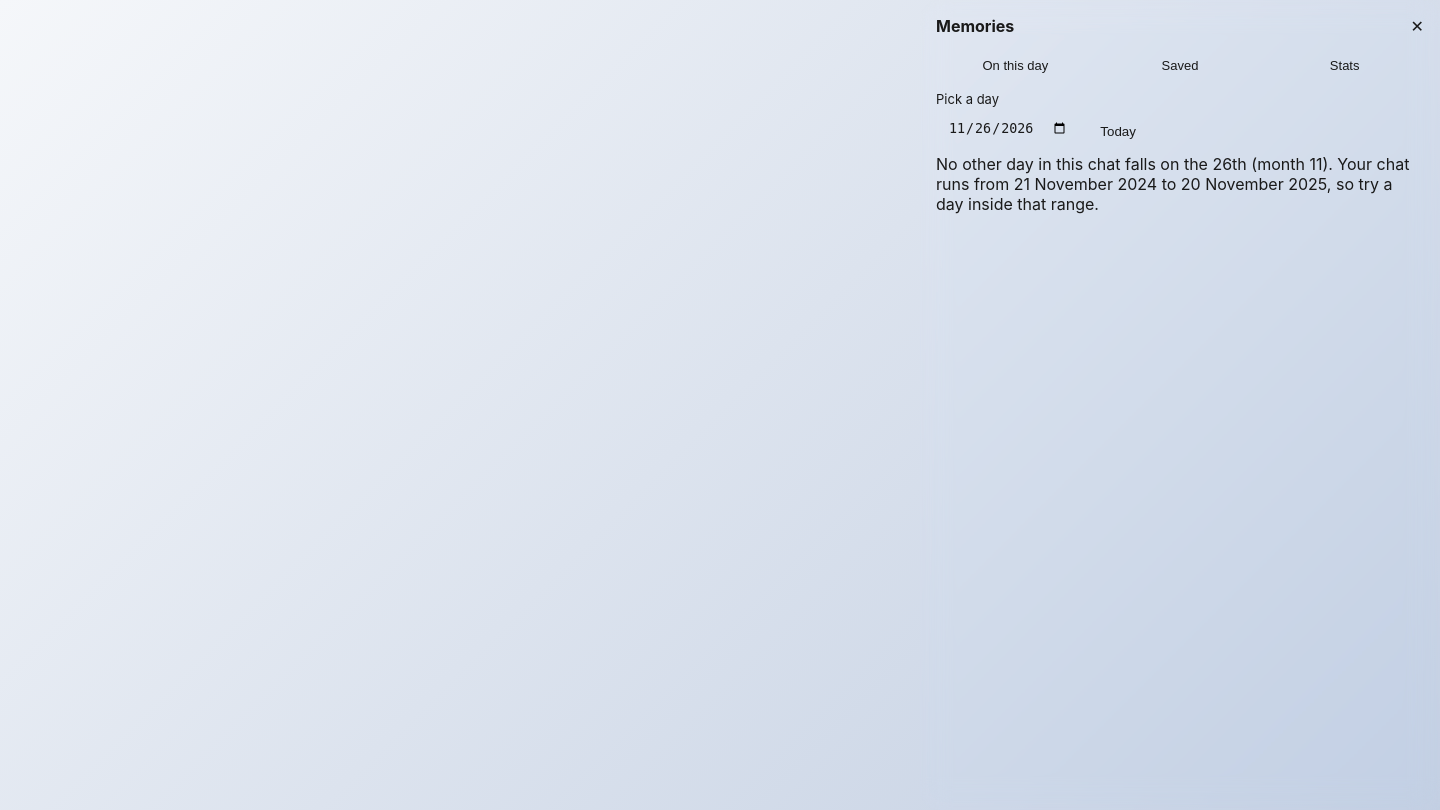
On this day › lists the same date in other years and the same day in other months, with previews
Later steps or results of the test are not shown.
Type "2025-11-21" into the date field labelled "Pick a day" at (1008, 129), box [936, 111, 1080, 146]
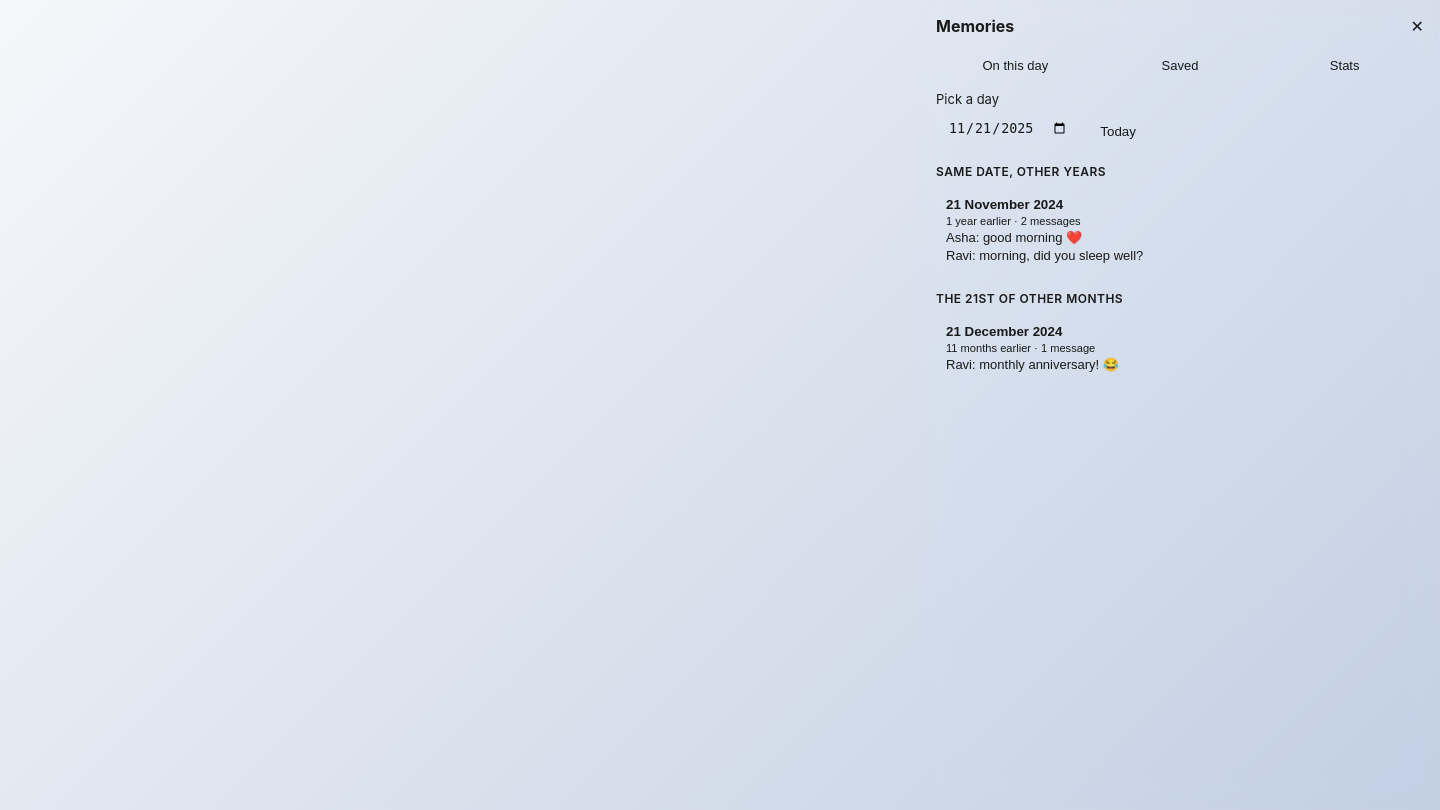
Result: the heading "Same date, other years" is shown at [936, 164, 1106, 179]
Result: the heading "The 21st of other months" is shown at [936, 291, 1123, 306]
Result: the text "1 year earlier · 2 messages" is shown at [946, 215, 1081, 227]
